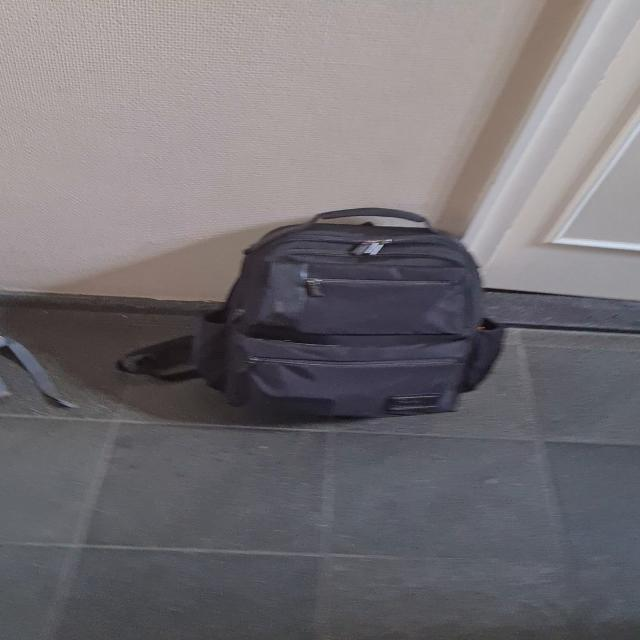backpack: (175, 203, 518, 424)
